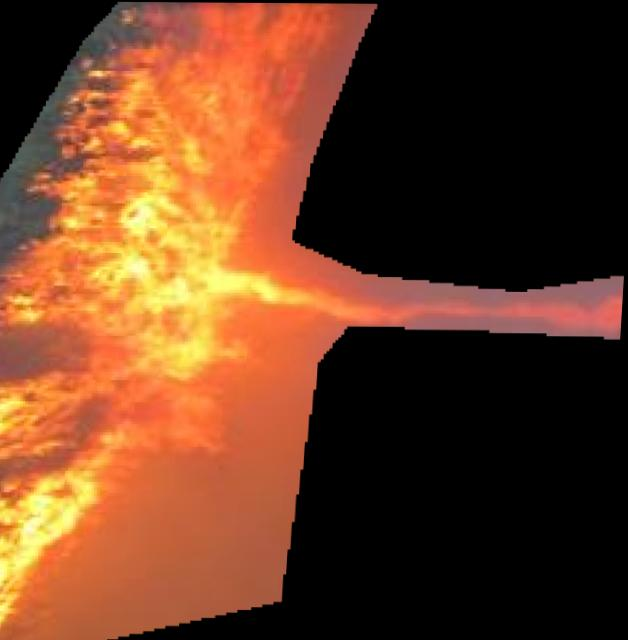fire: (0, 1, 627, 640)
